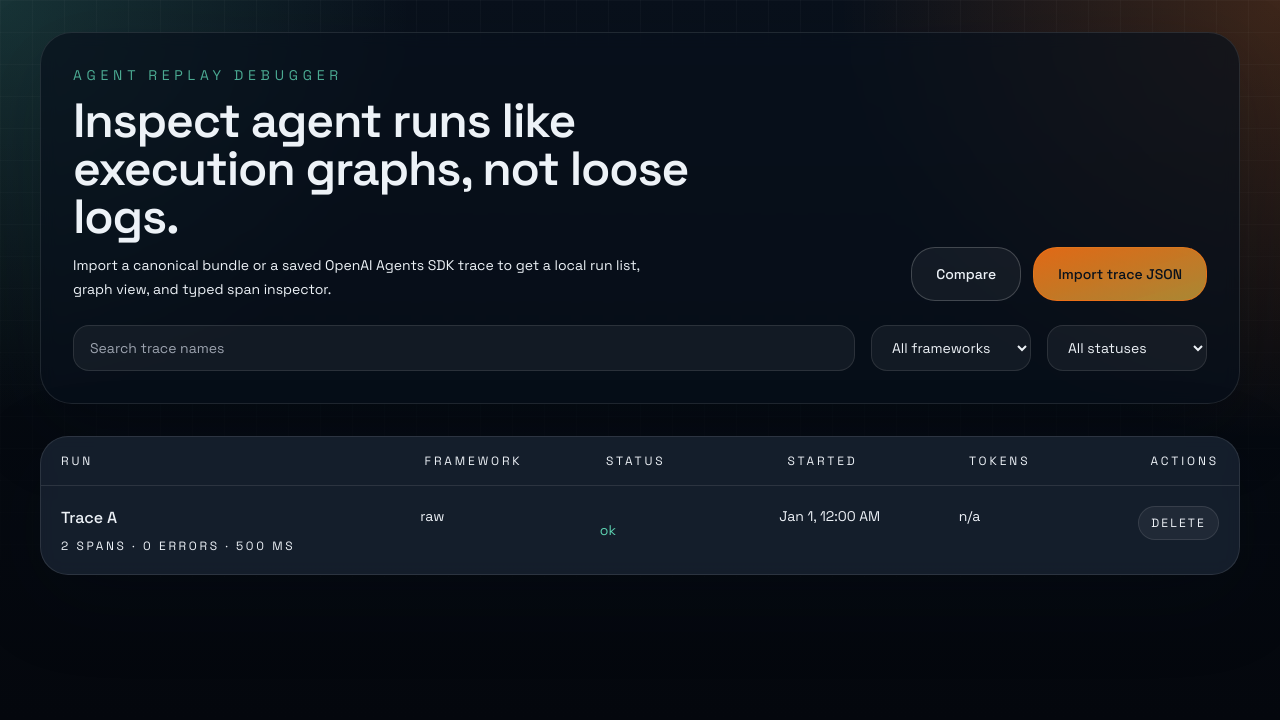
Dashboard › deletes a trace and refreshes list state
The width and height of the screenshot is (1280, 720).
Step 1. Click the button "Delete" → (1179, 523), box x1=1138 y1=506 x2=1219 y2=540
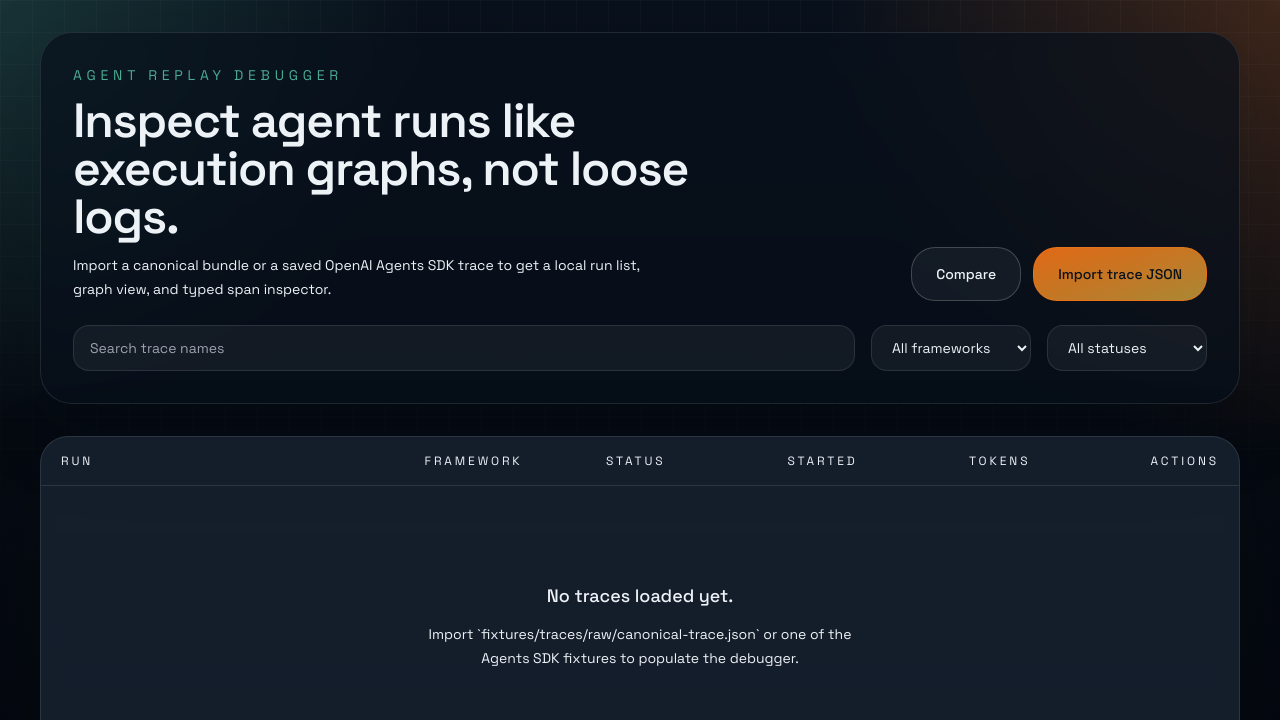
expect the link "Trace A" is gone: met
